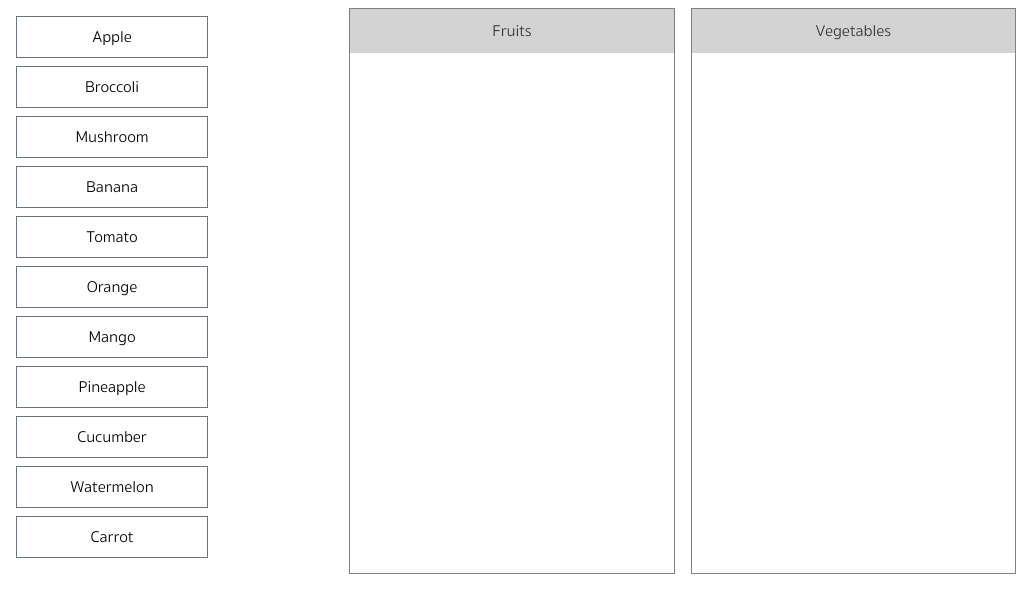
Test: Landing Component › when click item fruit should move a fruit item to the fruit list
This screenshot has width=1033, height=591.
Step 1. Click the button "Apple" → (112, 37), box [16, 16, 208, 58]
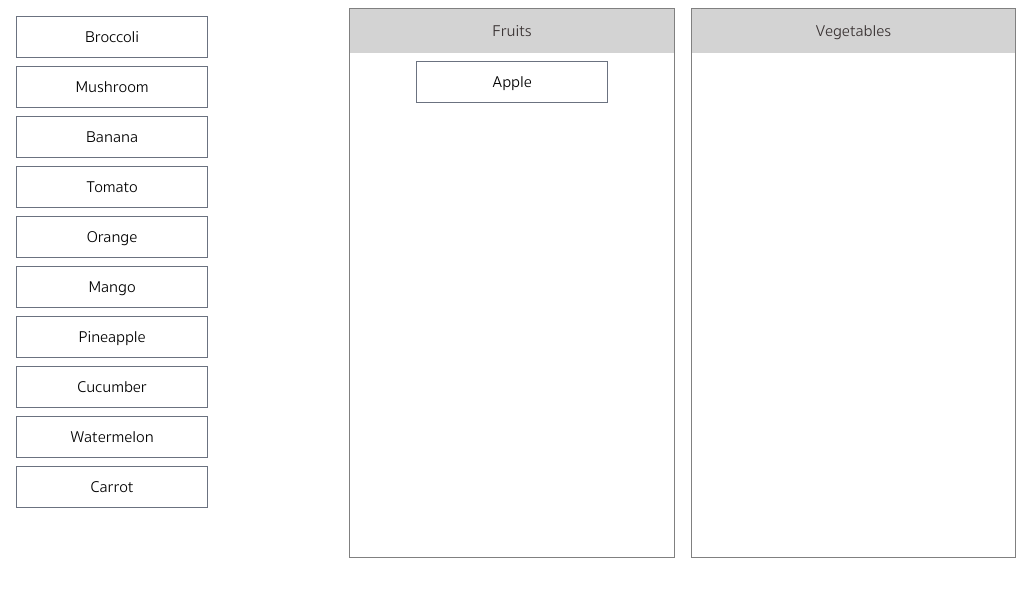
Expected: the button "Apple" is shown, [416, 61, 608, 103]
